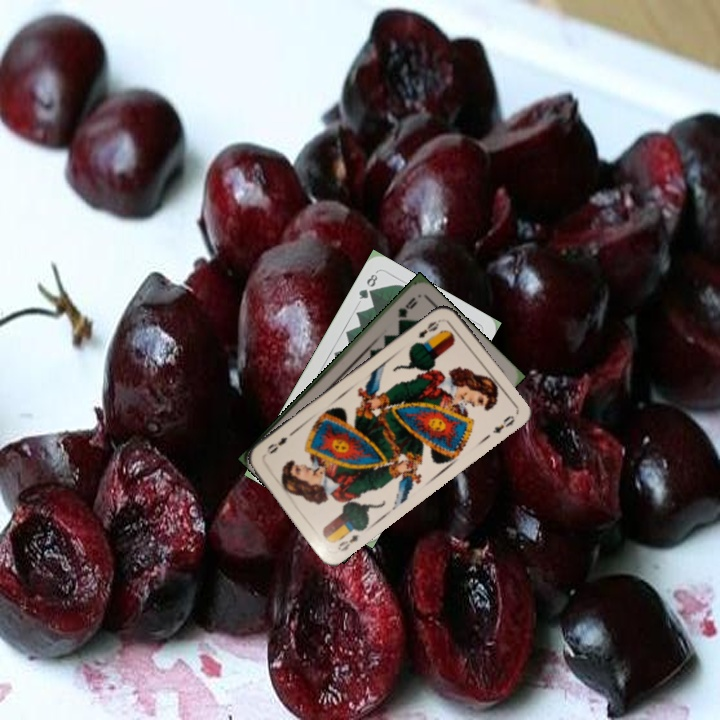EO: (414, 315, 445, 341), (333, 530, 361, 554)
G8: (354, 269, 380, 302)
G9: (393, 293, 420, 327)
